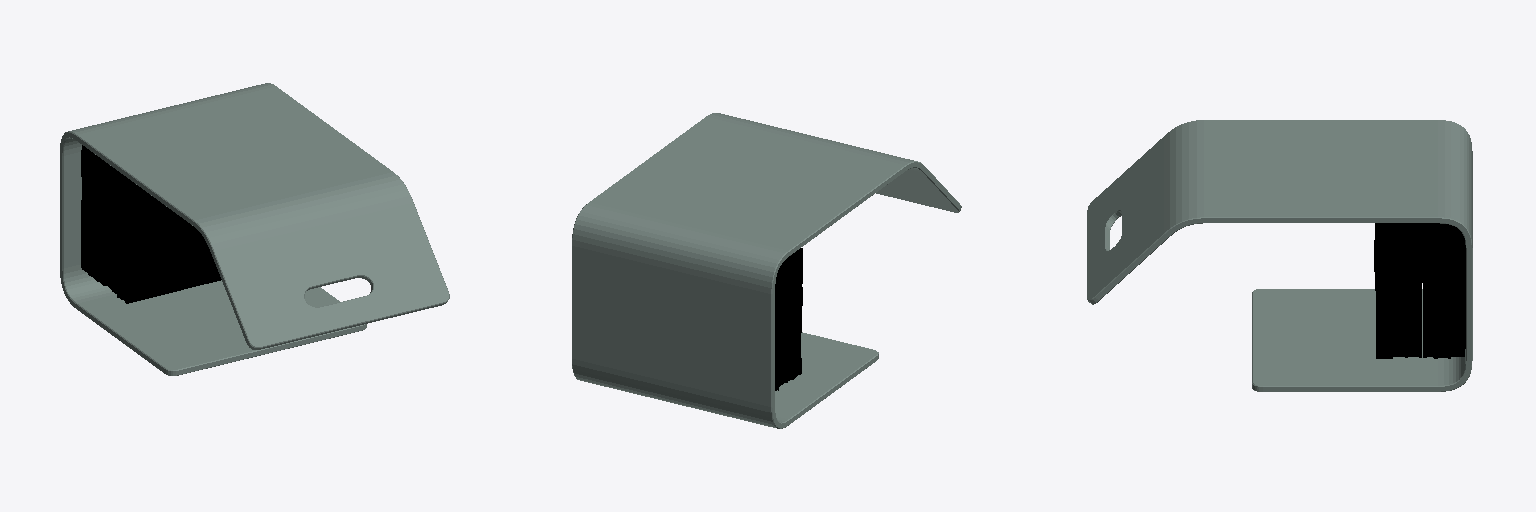
The model's file is Artek_Kanto_Rack_m_mat(5).obj.
3 views of the same model, side by side, from view 1: azimuth 30°, elevation 25°; view 2: azimuth 150°, elevation 25°; view 3: azimuth 270°, elevation 25° (orthographic).
Parts seen in each view (by area): view 1: Artek_Kanto_Rack_m_mat5_02, Artek_Kanto_Rack_m_mat5_01; view 2: Artek_Kanto_Rack_m_mat5_02, Artek_Kanto_Rack_m_mat5_01; view 3: Artek_Kanto_Rack_m_mat5_02, Artek_Kanto_Rack_m_mat5_01.
Boxes of the visible parts, x1,y1,x2,y2 form: Artek_Kanto_Rack_m_mat5_02: [60, 83, 449, 375]; Artek_Kanto_Rack_m_mat5_01: [81, 145, 221, 303]; Artek_Kanto_Rack_m_mat5_02: [572, 113, 961, 428]; Artek_Kanto_Rack_m_mat5_01: [775, 248, 802, 390]; Artek_Kanto_Rack_m_mat5_02: [1087, 120, 1472, 391]; Artek_Kanto_Rack_m_mat5_01: [1374, 223, 1465, 358].
Bounding box in the file's own units: 34 × 28.3 × 56.5.